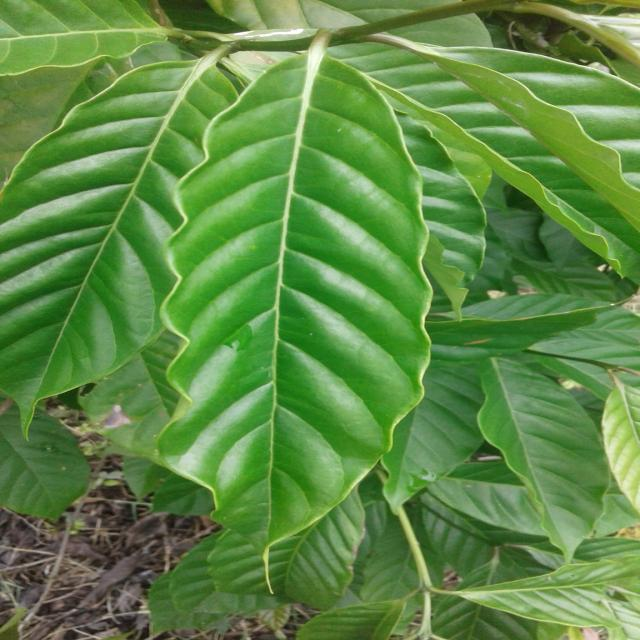Sanas: (156, 58, 441, 608)
